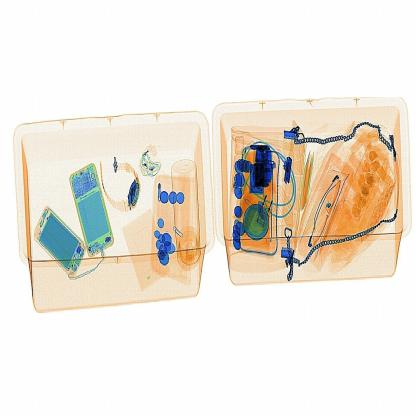scissors: (257, 145, 276, 195)
